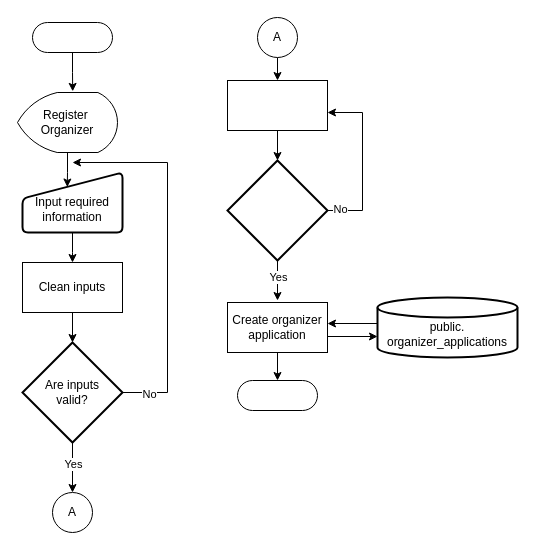
Image size: 536x550. Some labels were removed from this diagram. Each missing label, with the box of its shape:
End: (236, 380, 318, 410)
Requirements complete?: (226, 159, 328, 261)
Start: (32, 22, 112, 52)
Upload required licenses and certificates: (226, 80, 328, 130)
